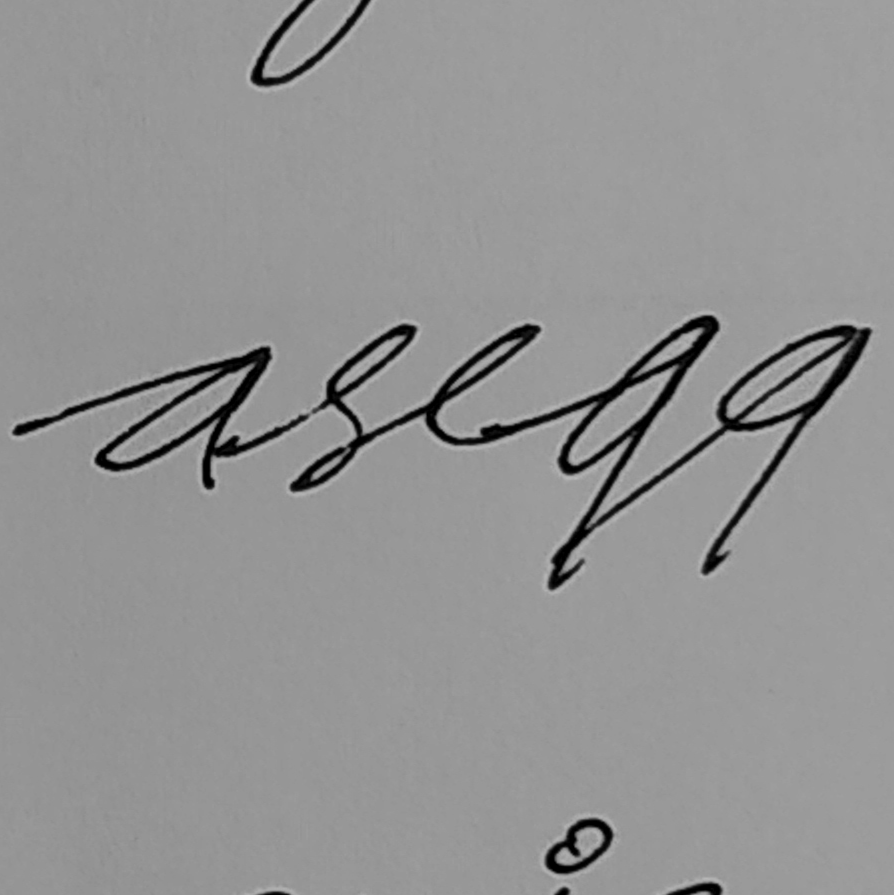a: (91, 342, 273, 499)
e: (422, 319, 543, 451)
q: (538, 312, 723, 597), (698, 322, 875, 576)
s: (288, 321, 419, 494)
